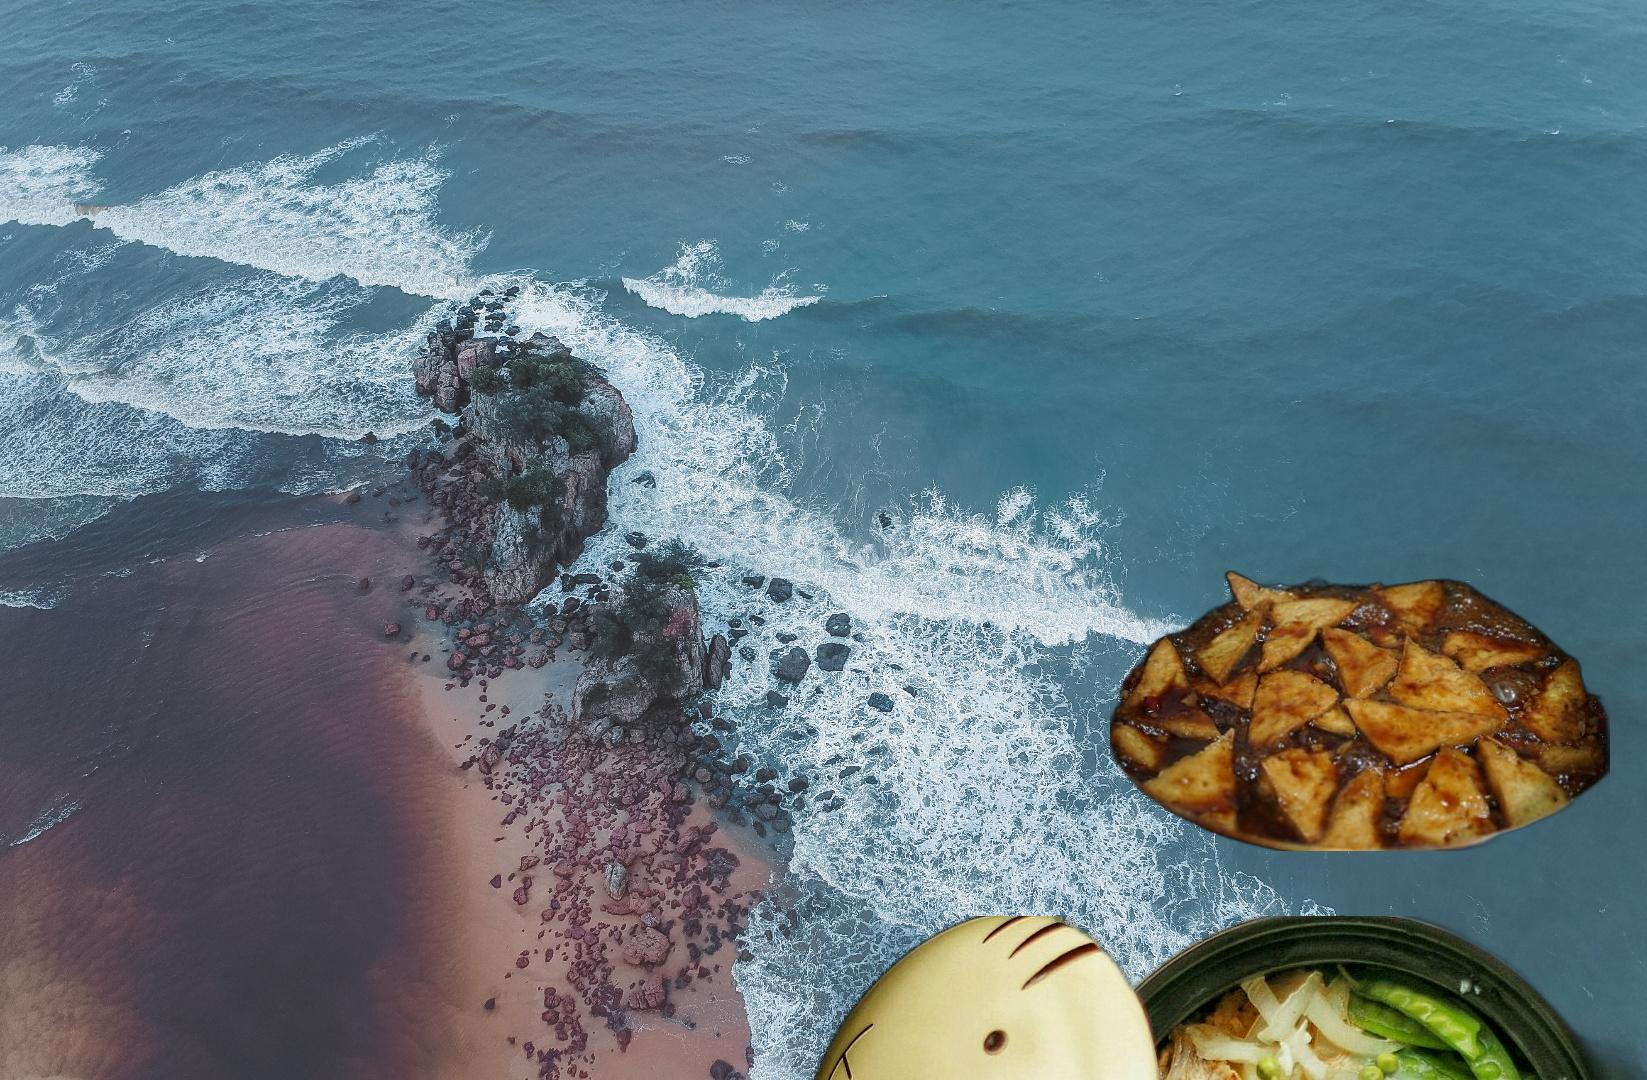biological: (780, 916, 1647, 1080), (1110, 568, 1610, 851)
